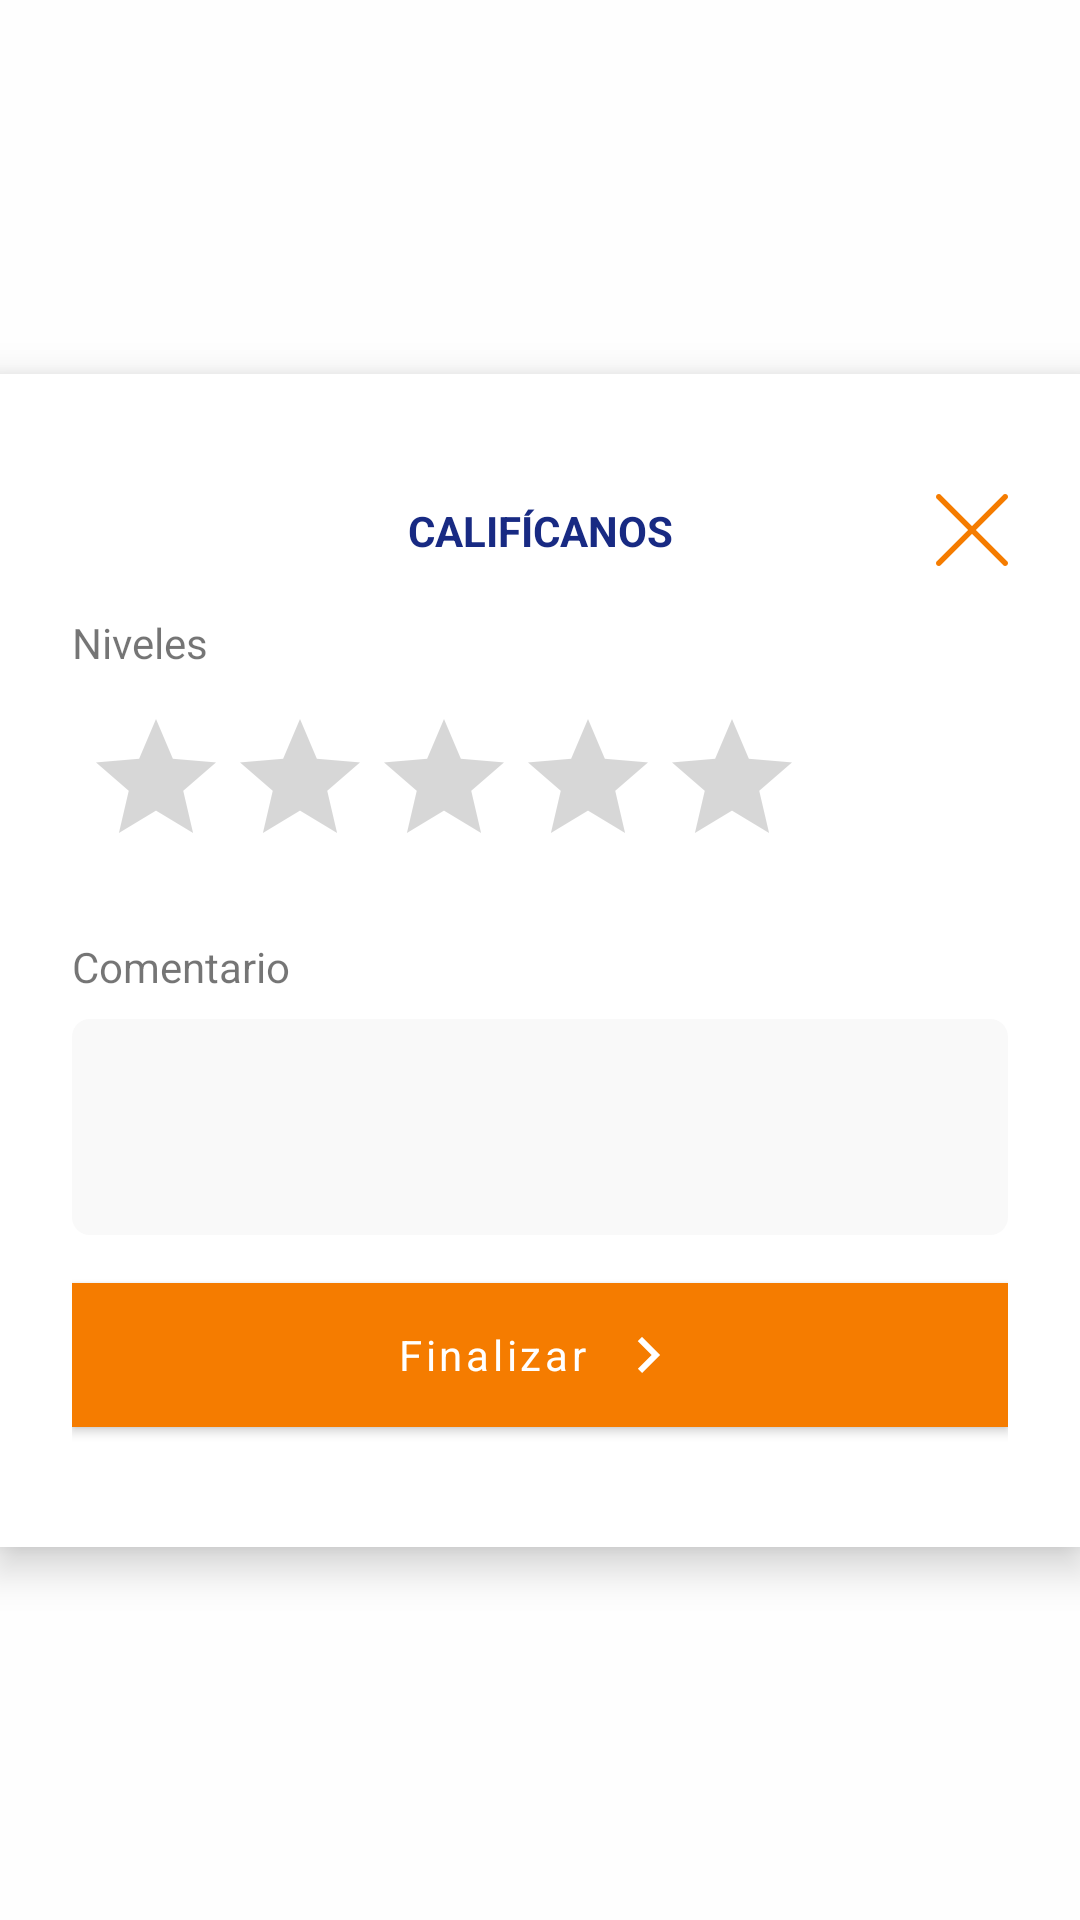

Icon bounding boxes for this 1080x1920 phone screenshot, format (x1, y1, x2, y2):
cancel: (936, 494, 1008, 566)
